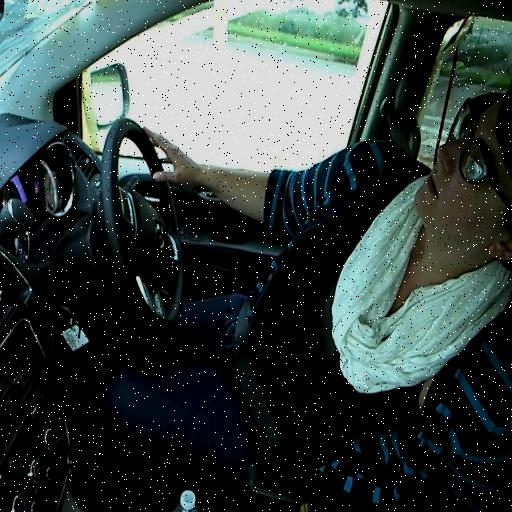turning: (86, 77, 511, 450)
